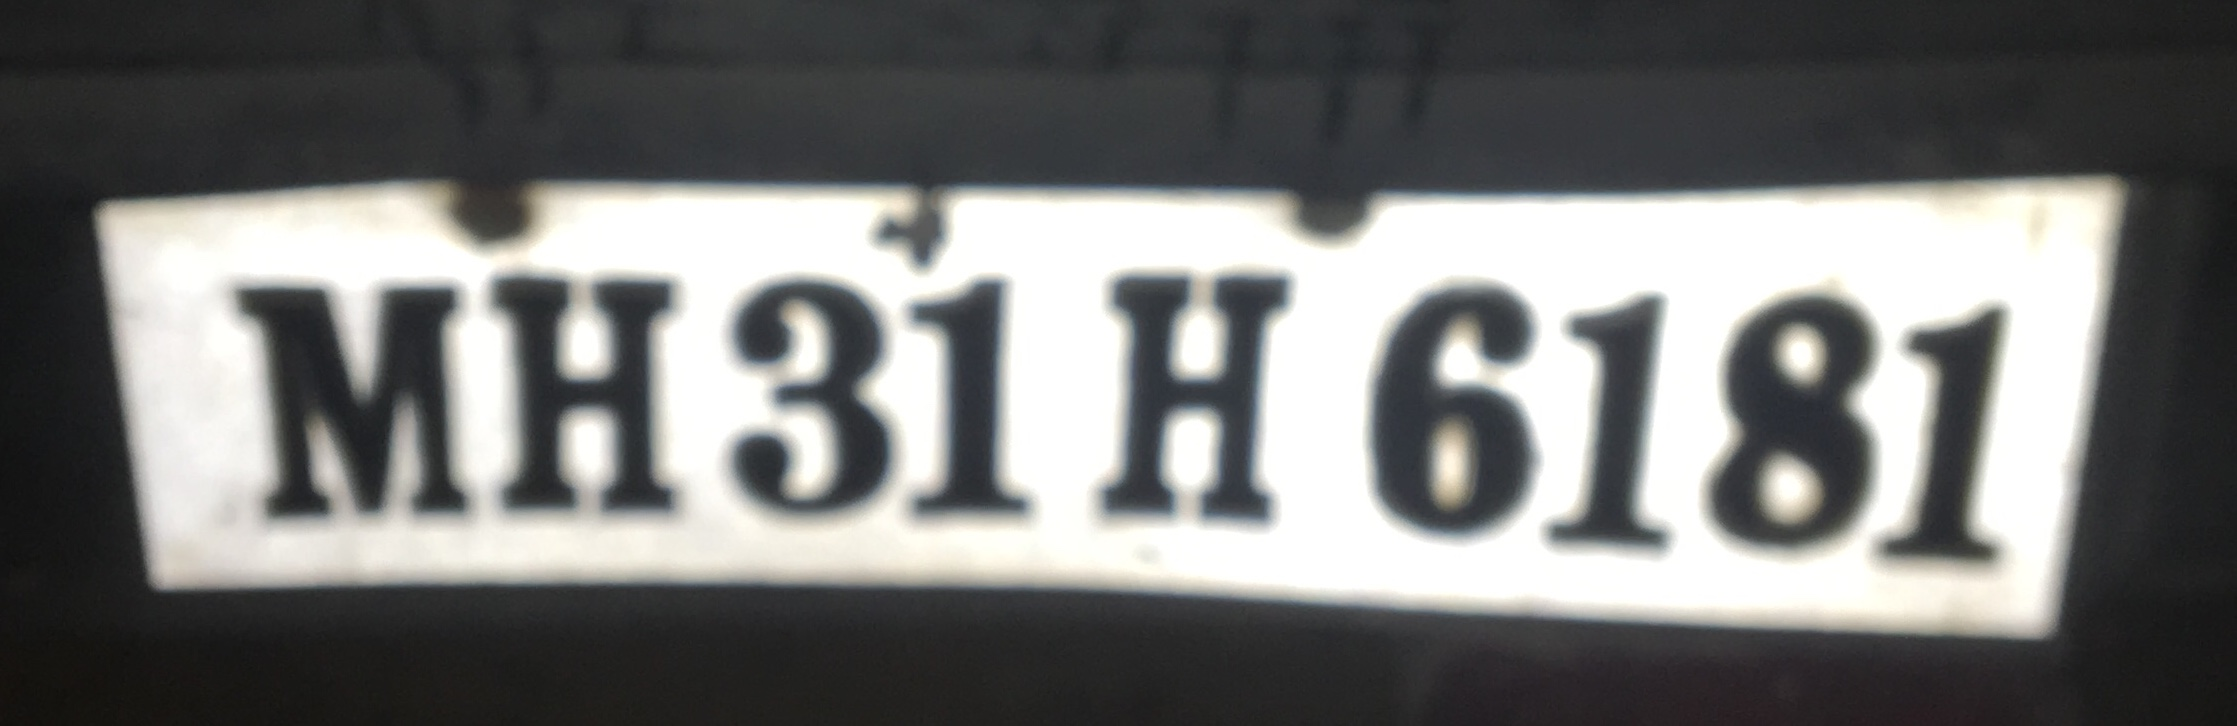numberplate: (93, 162, 2124, 647)
